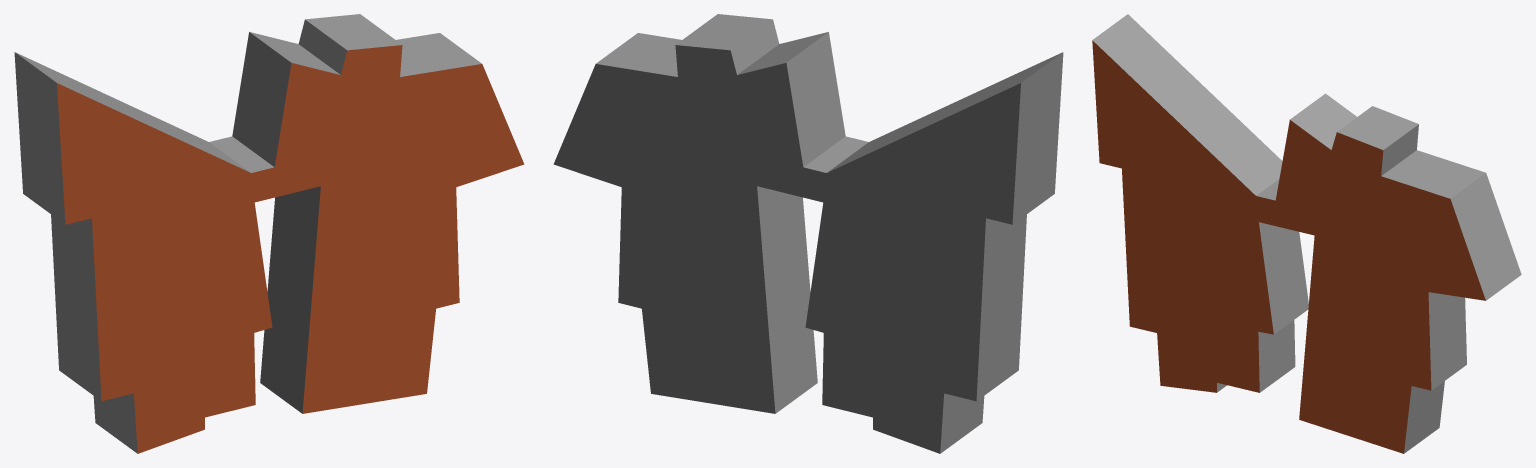
The model's file is construction_6197_assumed_A_Casa_h6m.obj.
The picture shows the model from 3 angles, left to right: view 1: azimuth 30°, elevation 25°; view 2: azimuth 150°, elevation 25°; view 3: azimuth 330°, elevation 25°; orthographic projection. The views are drawn at different scales.
Visible parts, largest first — view 1: construction_6197_assumed_A_Casa; view 2: construction_6197_assumed_A_Casa; view 3: construction_6197_assumed_A_Casa.
Boxes of the visible parts, bbox=[...] form: construction_6197_assumed_A_Casa: bbox=[14, 14, 524, 453]; construction_6197_assumed_A_Casa: bbox=[553, 14, 1063, 453]; construction_6197_assumed_A_Casa: bbox=[1092, 14, 1521, 453].
Bounding box in the file's own units: 38.22 × 31.34 × 6.
